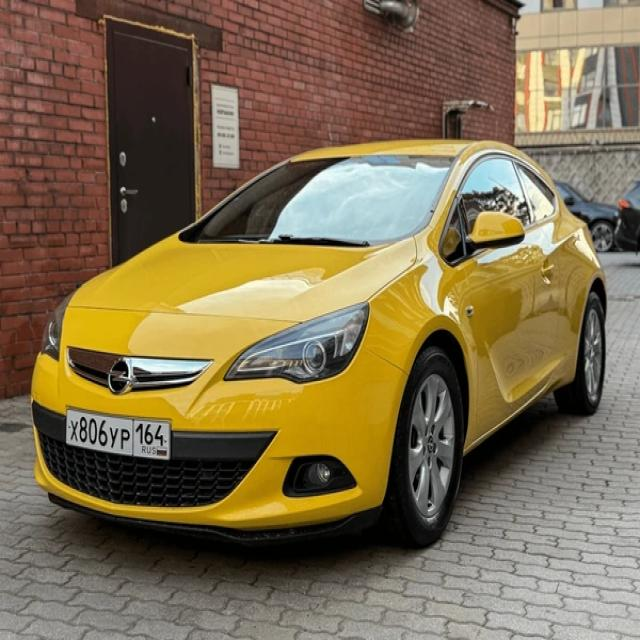opel: (104, 355, 134, 396)
